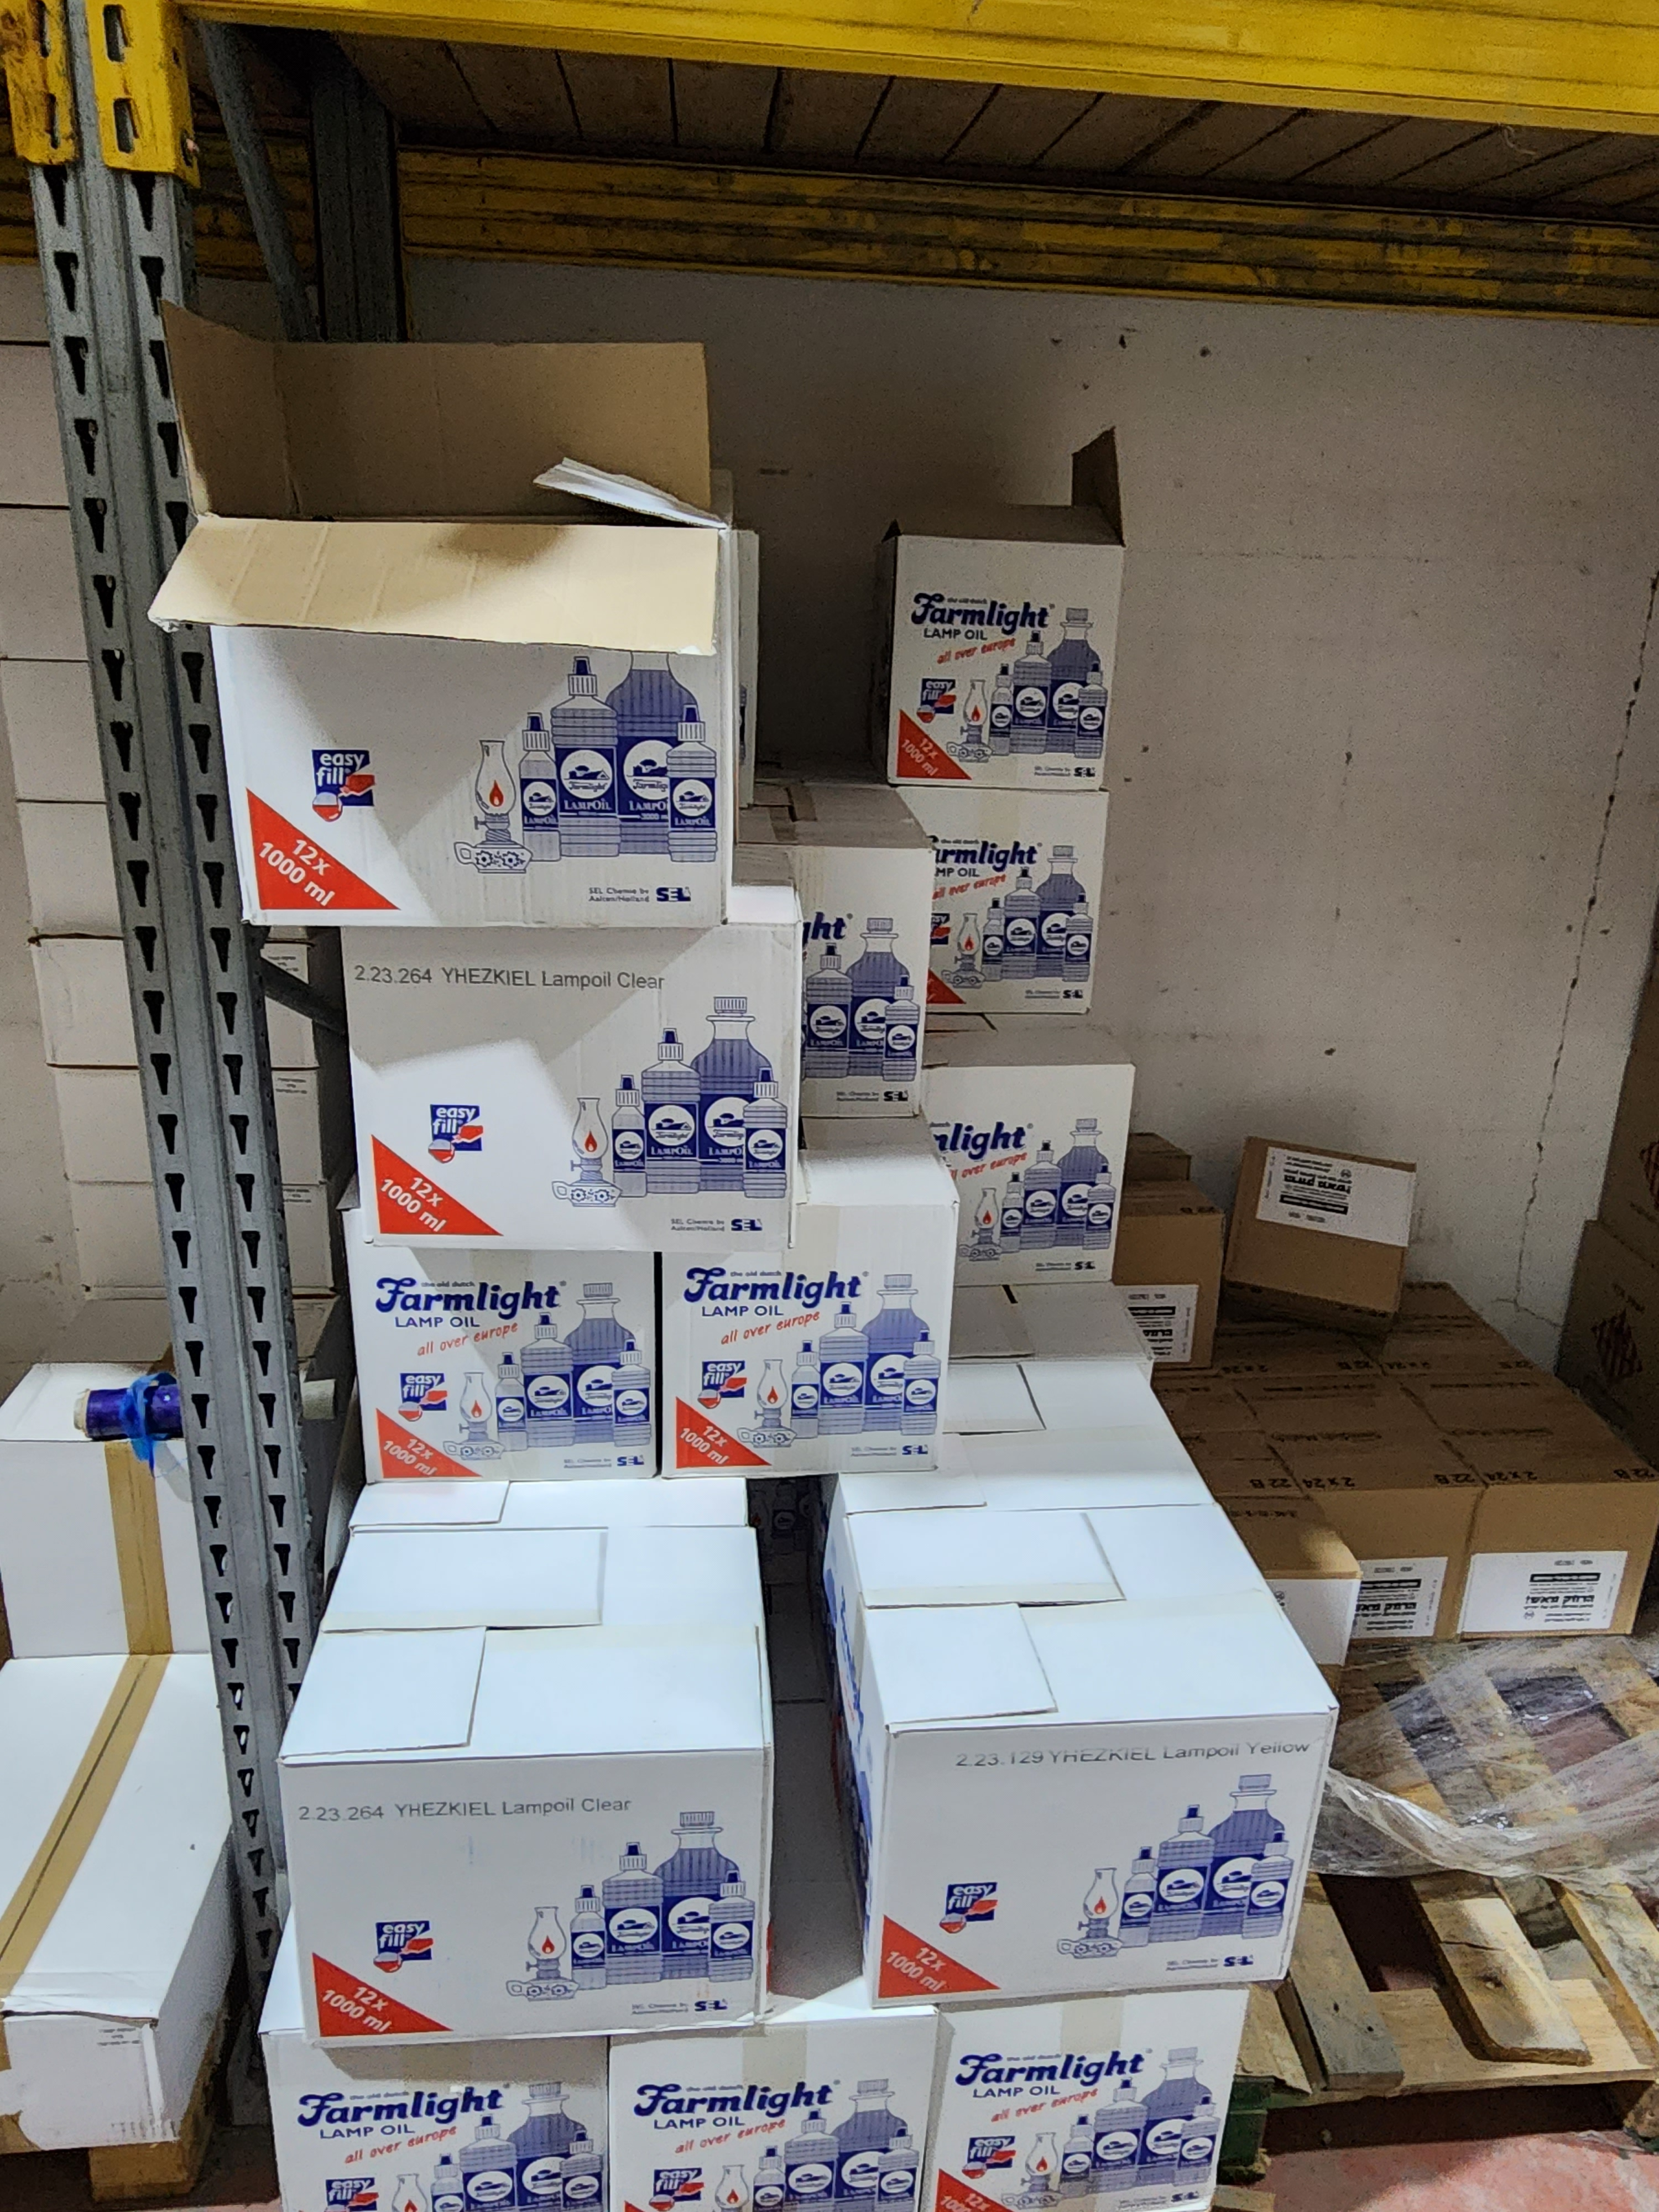box: (112, 307, 746, 972), (279, 1447, 802, 2092), (824, 1496, 1368, 1980), (314, 897, 863, 1275), (645, 1136, 1019, 1545), (288, 1148, 669, 1507), (880, 394, 1185, 803), (1227, 1099, 1462, 1376)
